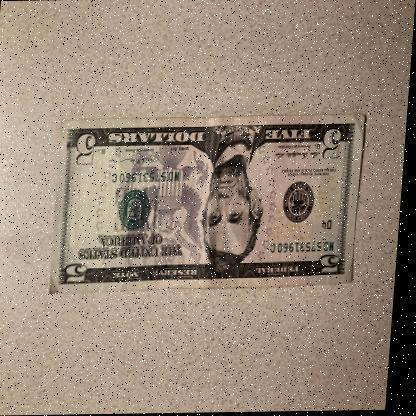five-front: (52, 113, 368, 295)
